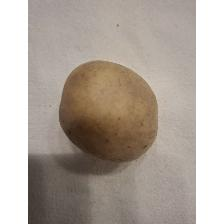Kartoffel: (56, 56, 160, 166)
